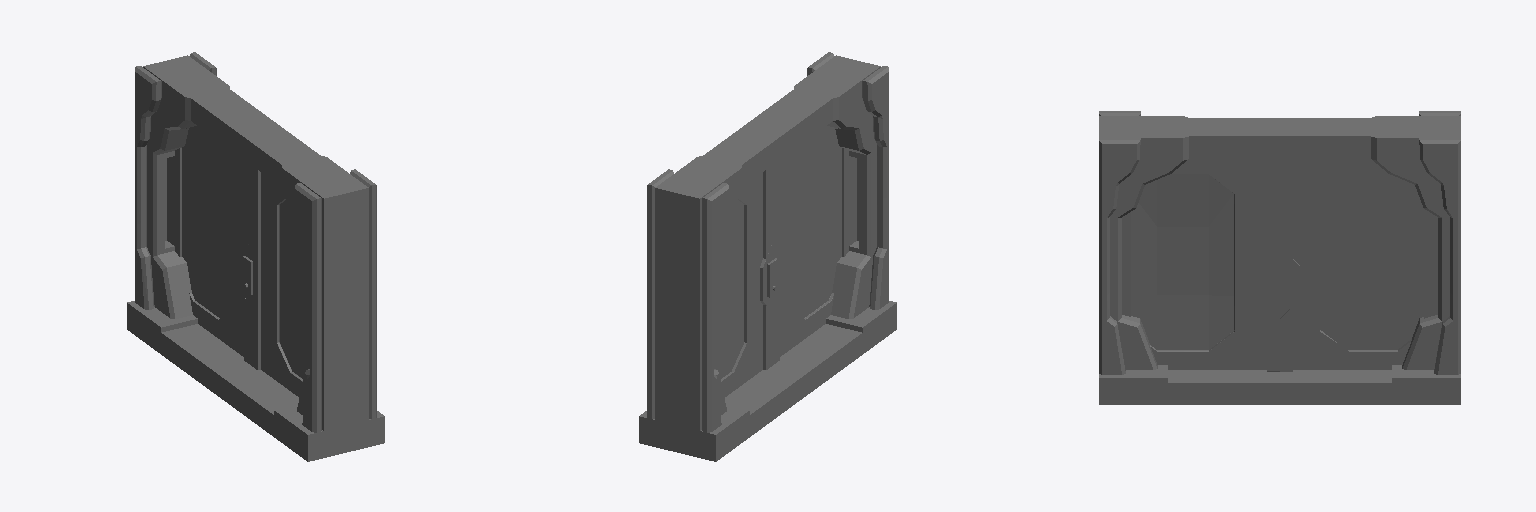
File: door_global_jg.obj
3 renders of one model, left to right at view 1: azimuth 30°, elevation 25°; view 2: azimuth 150°, elevation 25°; view 3: azimuth 270°, elevation 25°, orthographic.
Visible parts, largest first — view 1: group6 grp_door, grp_door group9, grp_door pCube9 group10, grp_door pCube61; view 2: grp_door group9, group6 grp_door, grp_door pCube9 group10, grp_door pCube61; view 3: grp_door pCube9 group10, grp_door pCube61, group6 grp_door, grp_door group9.
Part boxes in pixels (left/top/right/bottom): group6 grp_door: left=218, top=122, right=384, bottom=461; grp_door group9: left=127, top=52, right=274, bottom=395; grp_door pCube9 group10: left=241, top=165, right=357, bottom=430; grp_door pCube61: left=167, top=126, right=250, bottom=364; grp_door group9: left=639, top=122, right=806, bottom=461; group6 grp_door: left=750, top=52, right=896, bottom=394; grp_door pCube9 group10: left=760, top=126, right=856, bottom=364; grp_door pCube61: left=714, top=165, right=772, bottom=397; grp_door pCube9 group10: left=1122, top=159, right=1299, bottom=371; grp_door pCube61: left=1280, top=159, right=1437, bottom=371; group6 grp_door: left=1099, top=111, right=1279, bottom=404; grp_door group9: left=1280, top=111, right=1460, bottom=404.
Bounding box in the file's own units: 42.87 × 139 × 174.